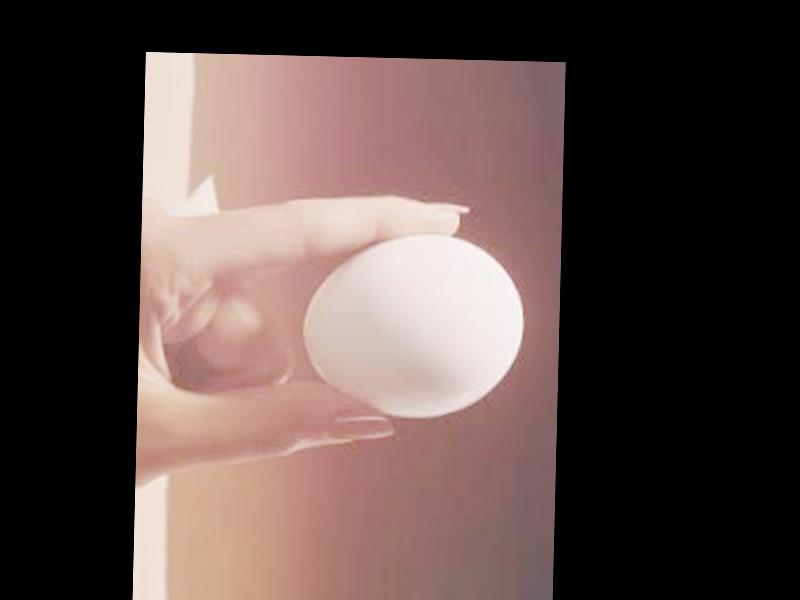Eggs: (300, 229, 526, 421)
